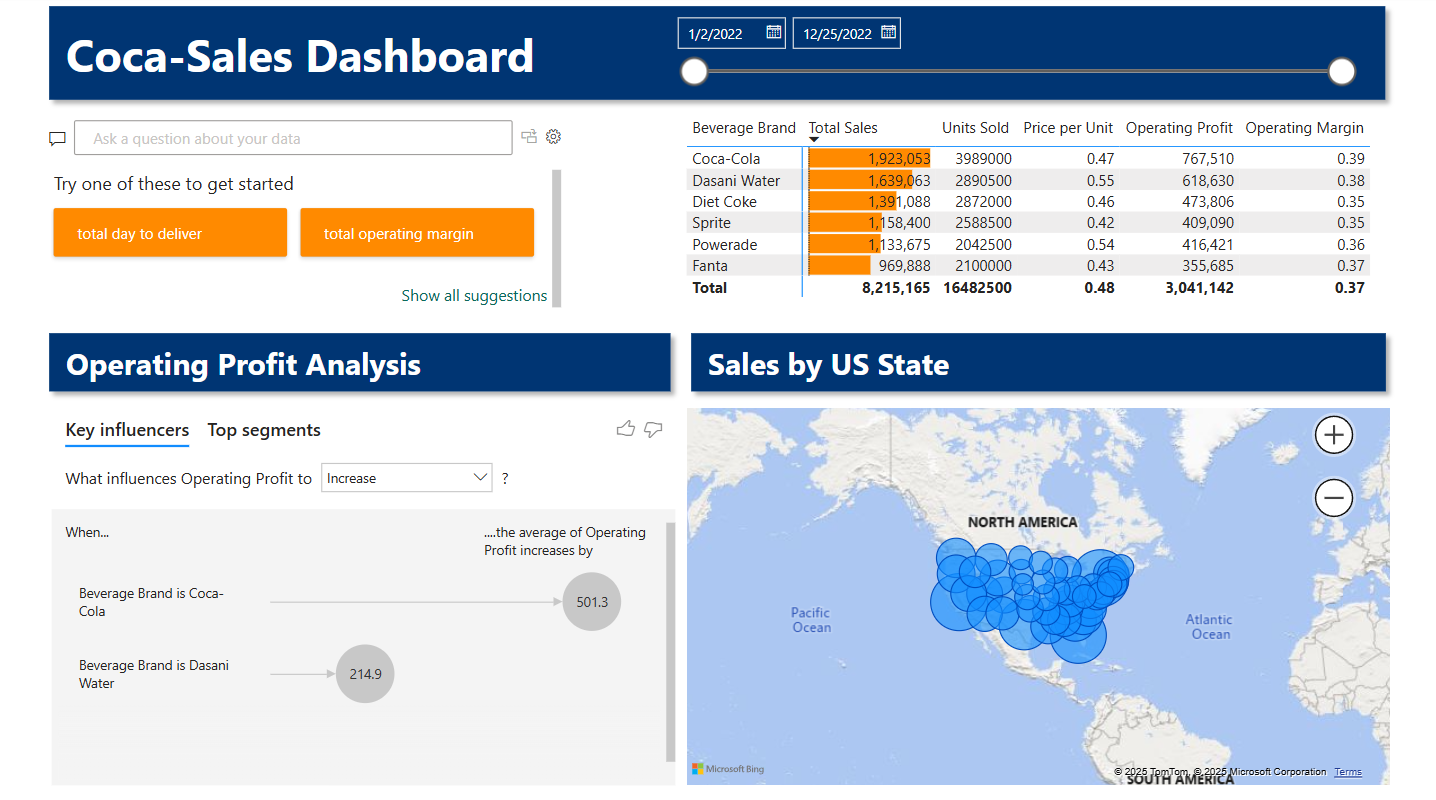

What the dashboard file says about the page in this screenshot:
{"tool":"powerbi","page":{"name":"Page 1","canvas":[1280,720],"ordinal":0},"visuals":[{"type":"shape","box":[38.3,0,1203.3,101.1],"z":0},{"type":"shape","box":[38.3,290.4,569.1,69.7],"z":1000},{"type":"qnaVisual","box":[38.3,101.1,471.6,189.3],"z":2000},{"type":"keyDriversVisual","fields":{"Target":["Data.Operating Profit"],"ExplainBy":["Data.Beverage Brand"]},"box":[44.1,360.1,563.3,345],"z":3000},{"type":"shape","box":[607.5,290.4,634.2,69.7],"z":4000},{"type":"map","fields":{"Category":["Data.State"],"Size":["Sum(Data.Total Sales)"]},"box":[607.4,360,634,344.9],"z":5000},{"type":"pivotTable","fields":{"Rows":["Data.Beverage Brand"],"Values":["Sum(Data.Total Sales)","Sum(Data.Units Sold)","Avg(Data.Price per Unit)","Sum(Data.Operating Profit)","Avg(Data.Operating Margin)"]},"box":[607.5,101.1,634.2,189.3],"z":6000},{"type":"slicer","fields":{"Values":["Data.Invoice Date"]},"box":[591.2,9.3,623.7,82.5],"z":7000}]}

Visuals, with their boxes in screenshot pixels (x1, y1, x2, y2), scaled from the page's 1280x720 canvas onto the 1436x800 screenshot:
shape: locate(43, 0, 1393, 112)
shape: locate(43, 323, 681, 400)
qnaVisual: locate(43, 112, 572, 323)
keyDriversVisual - Data.Operating Profit x Data.Beverage Brand: locate(49, 400, 681, 783)
shape: locate(682, 323, 1393, 400)
map - Data.State x Sum(Data.Total Sales): locate(681, 400, 1393, 783)
pivotTable - Data.Beverage Brand x Sum(Data.Total Sales): locate(682, 112, 1393, 323)
slicer - Data.Invoice Date: locate(663, 10, 1363, 102)
